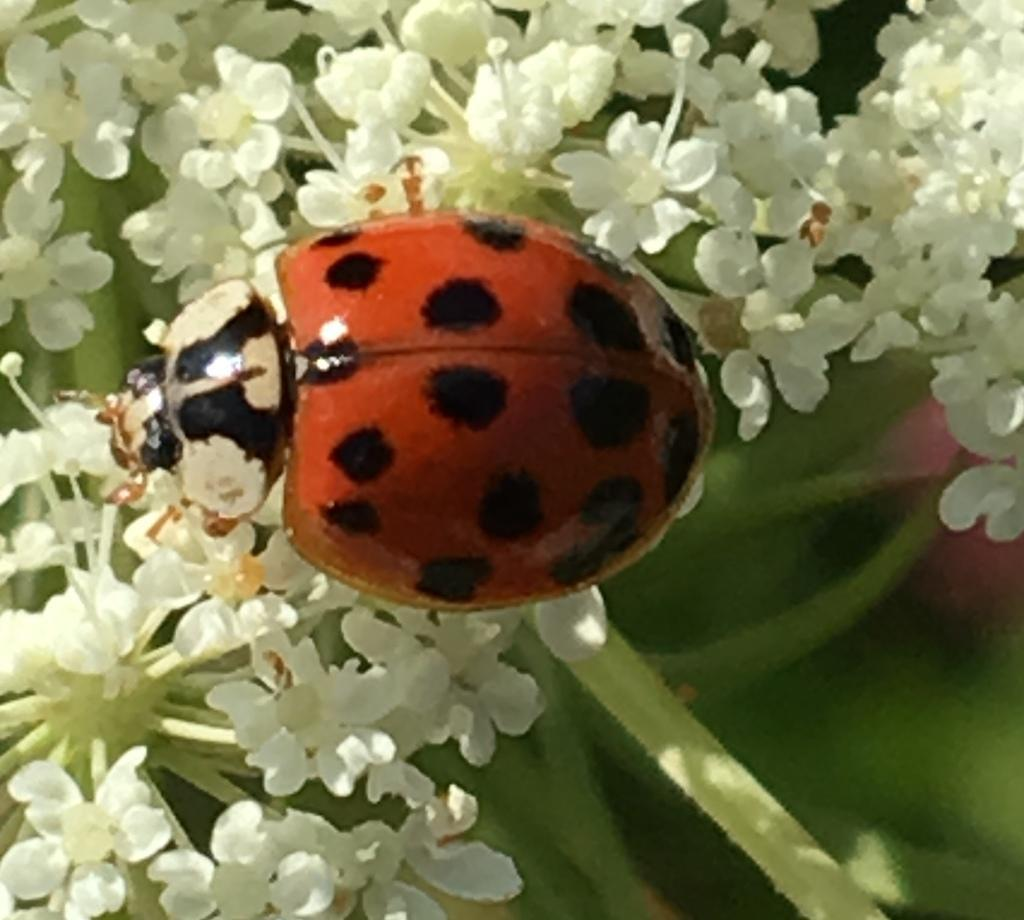ladybug: (51, 154, 724, 616)
